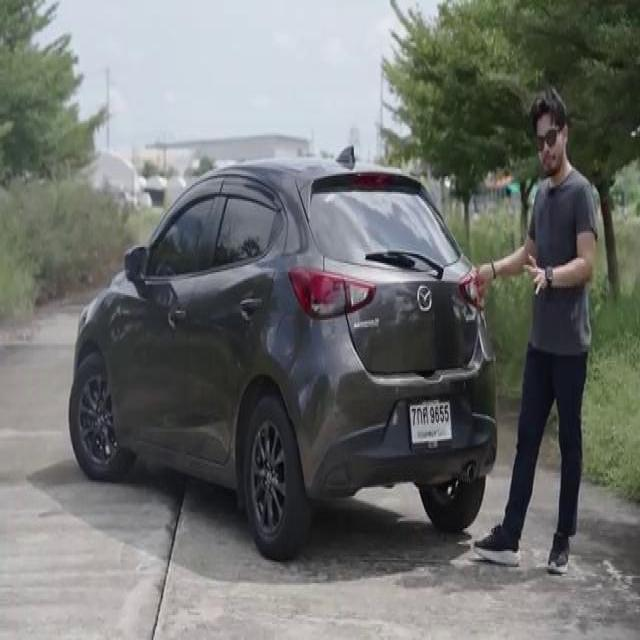Hatchback: (68, 148, 496, 560)
